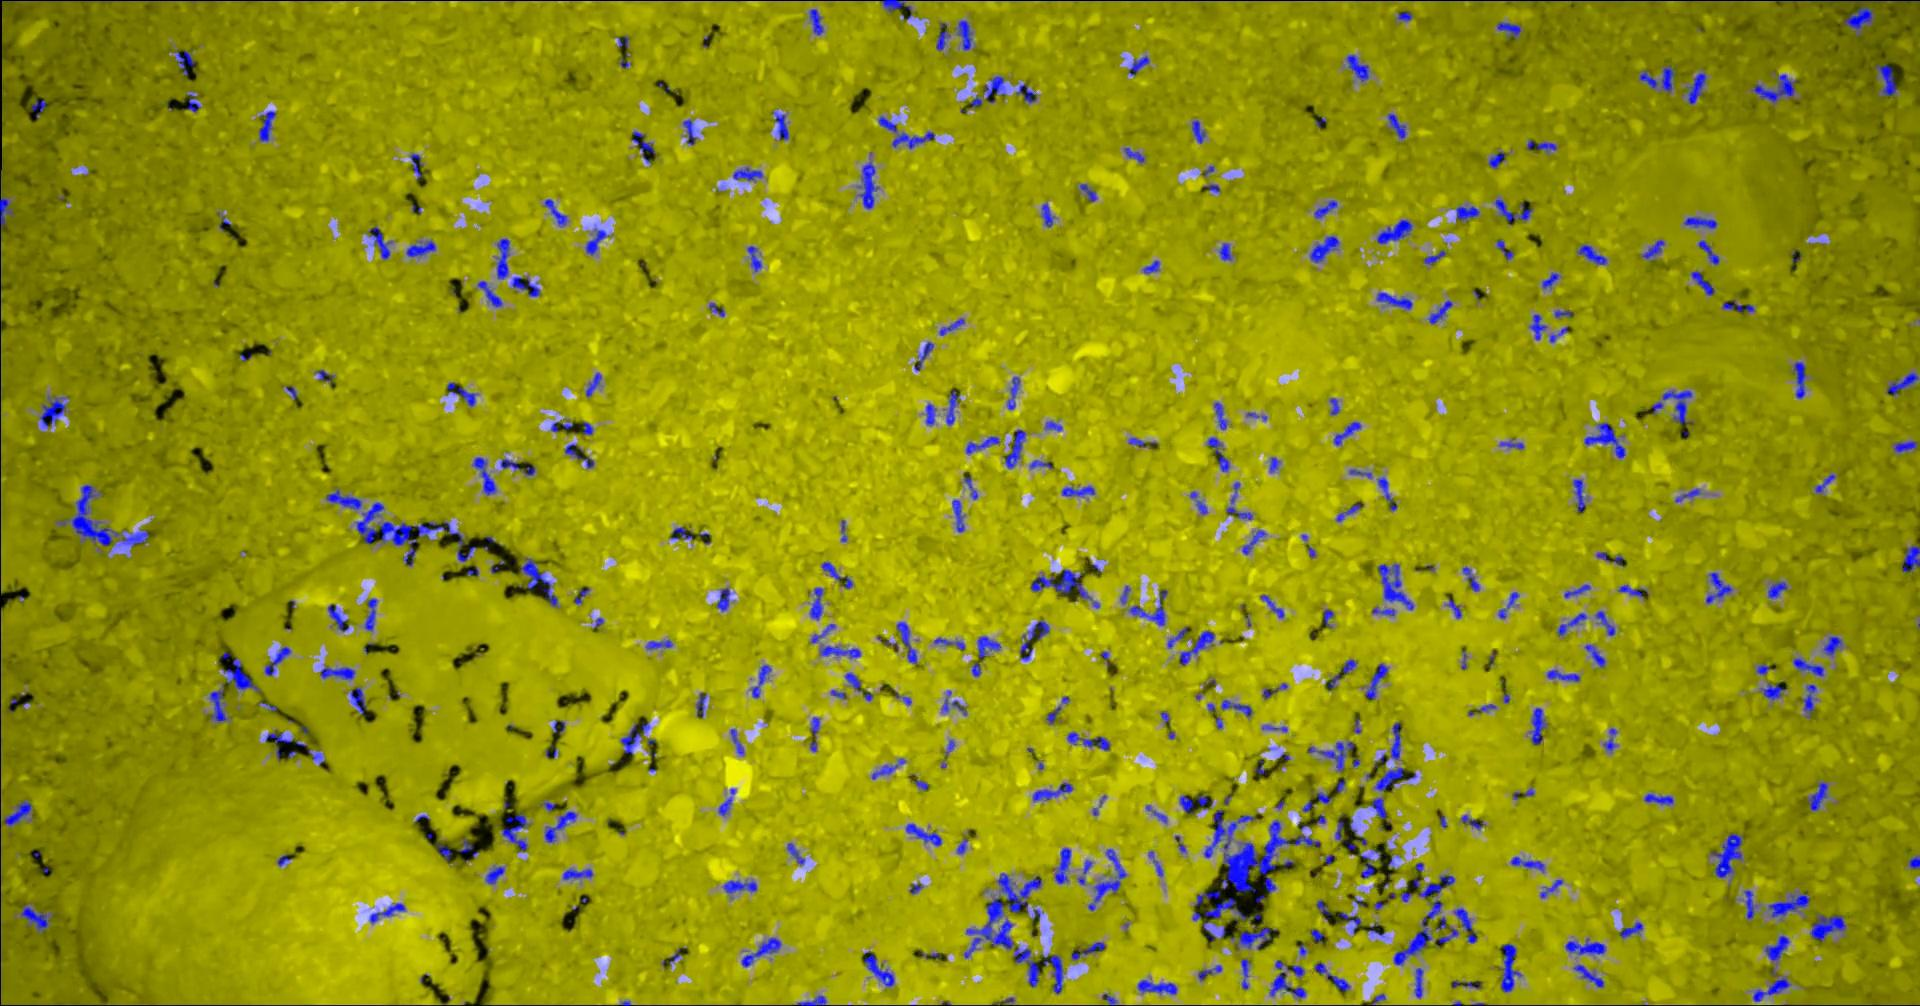ant: (1393, 901, 1446, 964), (1087, 848, 1125, 909), (1194, 890, 1260, 921), (518, 558, 557, 606), (1030, 569, 1091, 600), (1377, 563, 1413, 608), (1583, 422, 1624, 459), (1269, 959, 1305, 998), (1710, 833, 1743, 876), (1307, 741, 1352, 771), (1129, 589, 1167, 625), (1651, 390, 1691, 423), (222, 657, 259, 692), (1751, 74, 1796, 102), (1018, 620, 1049, 661), (1178, 630, 1214, 664), (742, 937, 780, 967), (543, 810, 577, 842), (863, 951, 894, 986), (1500, 942, 1521, 991), (1225, 481, 1252, 520), (1374, 767, 1416, 791), (1768, 893, 1810, 917), (1013, 946, 1039, 986), (502, 813, 527, 851), (620, 721, 649, 754), (1639, 65, 1675, 91), (857, 163, 877, 208), (1236, 926, 1276, 949), (1843, 6, 1874, 36), (20, 903, 53, 931), (1752, 977, 1790, 1001), (1810, 915, 1845, 940), (1495, 199, 1531, 224), (472, 456, 495, 494), (1377, 218, 1412, 243), (1705, 572, 1732, 603), (822, 561, 852, 588), (1418, 874, 1454, 897), (39, 395, 65, 427), (1041, 954, 1062, 993), (897, 621, 916, 663), (1067, 730, 1109, 749), (631, 130, 655, 163), (1886, 371, 1919, 395), (1453, 908, 1476, 942), (844, 672, 872, 700), (1309, 235, 1338, 262), (1004, 429, 1025, 467), (0, 800, 30, 826), (891, 131, 935, 149), (1365, 663, 1387, 699), (905, 823, 941, 845), (370, 902, 405, 923), (1874, 64, 1897, 97), (368, 226, 391, 259), (1208, 437, 1229, 471), (871, 757, 905, 779), (325, 489, 361, 509), (585, 227, 611, 255), (264, 647, 290, 674), (446, 382, 475, 406), (564, 443, 593, 467), (1032, 782, 1072, 800), (477, 279, 502, 307), (1377, 478, 1397, 511), (265, 729, 306, 746), (1564, 937, 1605, 954), (1573, 964, 1603, 987), (1556, 614, 1586, 635), (1764, 935, 1789, 960), (1333, 420, 1360, 445), (750, 664, 770, 697), (1241, 528, 1265, 554), (543, 198, 566, 225), (965, 436, 999, 453), (210, 687, 227, 721), (1070, 941, 1105, 959), (879, 0, 910, 19), (1686, 72, 1705, 104), (1792, 657, 1823, 676), (1137, 979, 1176, 995), (1577, 244, 1606, 264), (1377, 292, 1412, 309), (1054, 847, 1070, 883), (1690, 271, 1714, 295), (1427, 298, 1451, 323), (977, 636, 1001, 661), (0, 193, 13, 239), (1346, 55, 1368, 81), (983, 75, 1004, 102), (495, 238, 509, 278), (510, 276, 538, 296), (1807, 782, 1827, 810), (945, 387, 960, 424), (1529, 708, 1544, 744), (914, 340, 933, 370), (1260, 594, 1284, 617), (258, 111, 276, 141), (328, 605, 348, 631), (1498, 591, 1517, 619), (1222, 699, 1251, 716), (174, 50, 194, 75), (1698, 239, 1718, 264), (1595, 610, 1615, 635), (1801, 683, 1816, 716), (771, 111, 789, 138), (1901, 544, 1919, 572), (320, 666, 356, 680), (717, 788, 735, 815), (1641, 239, 1663, 260), (1583, 644, 1605, 667), (1338, 911, 1360, 934), (1370, 796, 1389, 822), (406, 240, 436, 257), (1510, 856, 1544, 870), (1335, 503, 1361, 521), (1792, 361, 1804, 398), (819, 645, 860, 657), (811, 622, 836, 641), (1434, 927, 1458, 946), (1387, 113, 1404, 138), (938, 318, 964, 335), (1760, 681, 1785, 699), (809, 587, 823, 619), (1167, 626, 1187, 648), (1313, 199, 1336, 218), (1462, 567, 1479, 591), (731, 166, 762, 180), (1529, 314, 1545, 339), (1006, 376, 1018, 409), (951, 499, 964, 532), (1262, 682, 1288, 699), (941, 699, 966, 715), (723, 880, 756, 893), (1128, 55, 1149, 74), (1015, 83, 1036, 102), (957, 20, 971, 50), (808, 8, 823, 34), (1596, 551, 1623, 567), (350, 687, 366, 714), (1572, 479, 1585, 511), (1496, 22, 1520, 38), (1455, 205, 1479, 221), (1197, 964, 1222, 981), (1683, 216, 1717, 227), (935, 22, 949, 50), (1213, 401, 1227, 429), (682, 119, 697, 145), (745, 245, 761, 271), (1815, 473, 1835, 492), (1617, 584, 1647, 597), (933, 636, 964, 649), (1390, 721, 1401, 760), (457, 838, 477, 857), (786, 842, 804, 864), (1540, 879, 1562, 897), (1327, 973, 1349, 991), (1721, 300, 1754, 311), (1545, 669, 1578, 681), (1148, 850, 1162, 876), (585, 372, 601, 396), (1460, 814, 1484, 829), (364, 598, 376, 630), (1823, 636, 1843, 655), (1496, 239, 1512, 260), (1620, 921, 1642, 937), (1528, 138, 1556, 151), (1674, 488, 1702, 500), (1077, 859, 1091, 884), (1359, 854, 1374, 876), (730, 728, 743, 754), (1191, 119, 1205, 144), (963, 475, 977, 499), (1062, 485, 1095, 495), (1643, 793, 1672, 804), (563, 868, 592, 879), (1123, 147, 1144, 163), (1423, 249, 1445, 264), (1893, 439, 1919, 452), (1563, 584, 1589, 597), (1239, 958, 1250, 989), (1603, 728, 1617, 751), (1768, 580, 1785, 598), (877, 116, 897, 132), (485, 866, 504, 883), (1446, 598, 1462, 619), (1041, 203, 1054, 227), (1079, 183, 1096, 201), (410, 152, 422, 178), (716, 587, 729, 610), (1128, 437, 1156, 447), (1743, 890, 1754, 918), (1316, 899, 1330, 920), (797, 995, 825, 1005), (1415, 967, 1423, 998), (670, 526, 692, 539), (1488, 151, 1505, 168), (1542, 272, 1558, 288), (645, 639, 672, 649), (436, 842, 451, 860), (30, 99, 44, 118), (550, 420, 573, 432), (187, 90, 199, 111), (574, 587, 589, 603), (1045, 706, 1060, 723), (1218, 243, 1232, 260), (1178, 795, 1192, 813), (1498, 438, 1523, 448), (696, 692, 706, 716), (924, 403, 935, 426), (1755, 663, 1775, 674), (1451, 981, 1481, 988), (709, 302, 724, 316), (1341, 659, 1356, 673), (1143, 260, 1159, 273), (1029, 459, 1051, 467), (1335, 817, 1343, 840), (1310, 929, 1324, 942), (500, 459, 519, 469), (1323, 608, 1333, 627), (316, 370, 333, 381), (1197, 794, 1211, 807), (1371, 607, 1394, 615), (810, 716, 819, 735), (1328, 398, 1338, 414), (1045, 420, 1062, 431), (1317, 791, 1331, 803), (1554, 309, 1572, 318), (1269, 457, 1279, 473), (1907, 855, 1919, 868), (1397, 11, 1411, 22), (582, 420, 592, 434), (1810, 0, 1886, 1)
